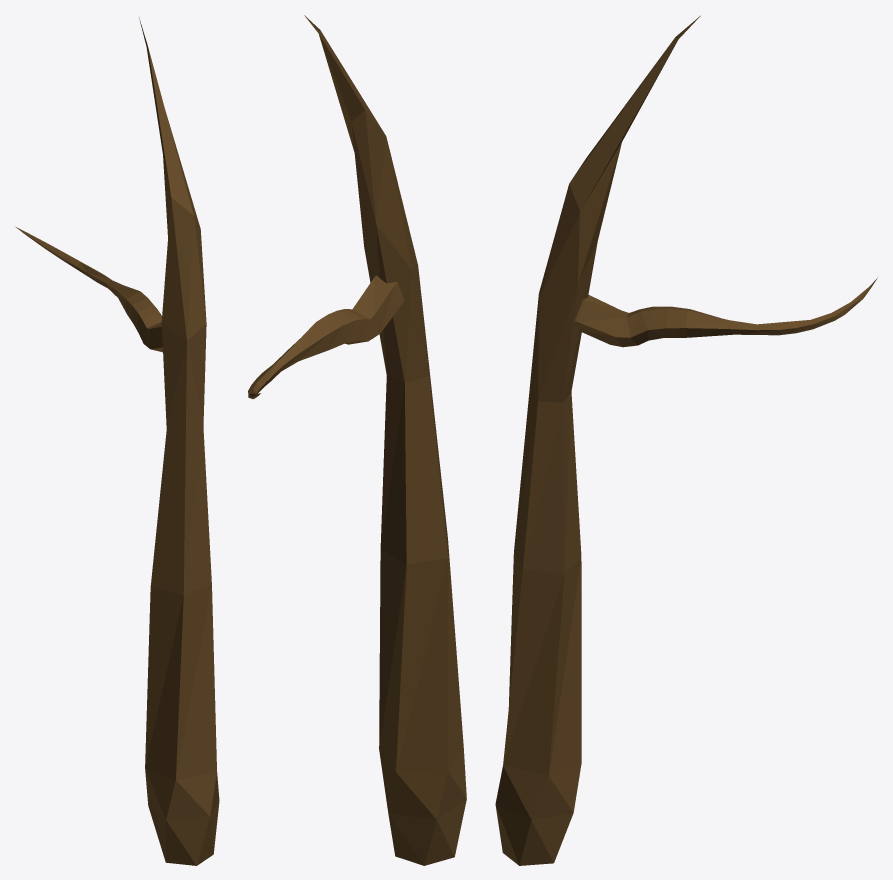
Rendered from weapon_stick.fbx.
3 renders of one model, left to right at view 1: azimuth 30°, elevation 25°; view 2: azimuth 150°, elevation 25°; view 3: azimuth 270°, elevation 25°, orthographic. The views are drawn at different scales.
Visible parts, largest first — view 1: stick, stick_1; view 2: stick, stick_1; view 3: stick, stick_1.
Boxes of the visible parts, x1=… form: stick: x1=139, y1=17, x2=219, y2=865; stick_1: x1=16, y1=227, x2=162, y2=352; stick: x1=304, y1=15, x2=466, y2=865; stick_1: x1=248, y1=275, x2=404, y2=399; stick: x1=495, y1=15, x2=700, y2=865; stick_1: x1=575, y1=278, x2=877, y2=347.
Size of the model in its own units: 3.19 by 35.65 by 14.46.
